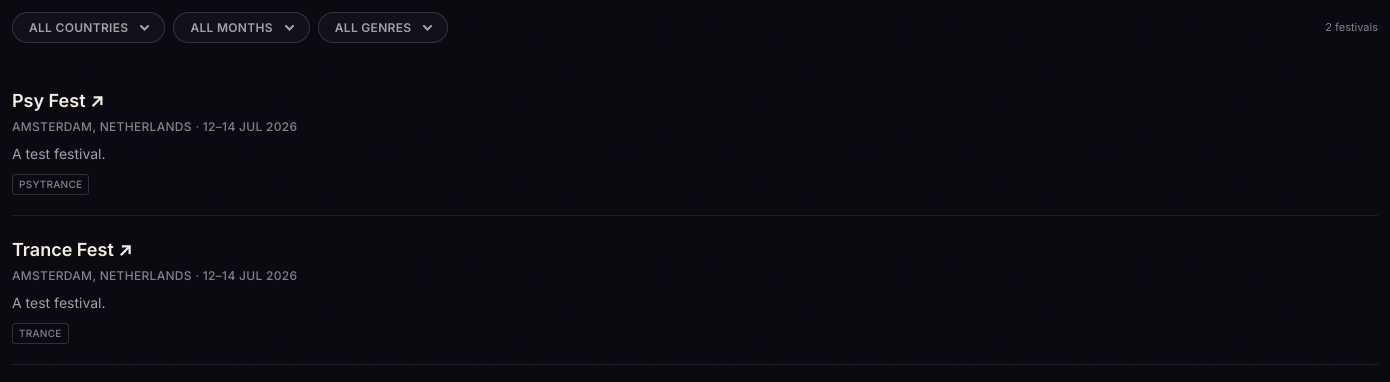
it: FestivalExplorer — genre filter uses the site-wide genre rule (genre system revision, 2026-10-24) › a main genre also matches festivals listing one of its subgenres; a subgenre stays exact
Select "Trance" in the dropdown named "Genre" at (383, 28), box top-left (318, 12), bottom-right (448, 43)
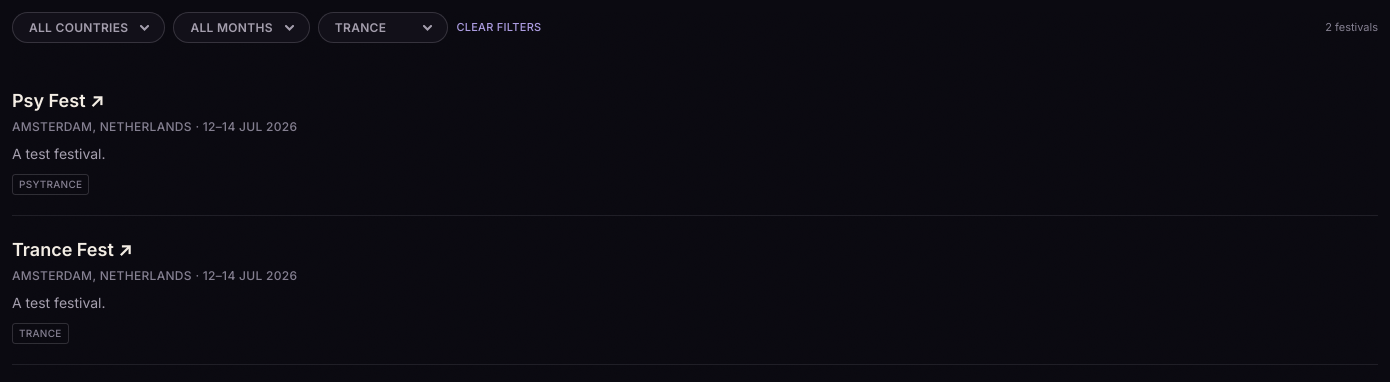
Expected: the link "Psy Fest ↗" is shown, top-left (12, 90), bottom-right (104, 111)
Expected: the link "Trance Fest ↗" is shown, top-left (12, 239), bottom-right (132, 260)
Select "Psytrance" in the dropdown named "Genre" at (383, 28), box top-left (318, 12), bottom-right (448, 43)
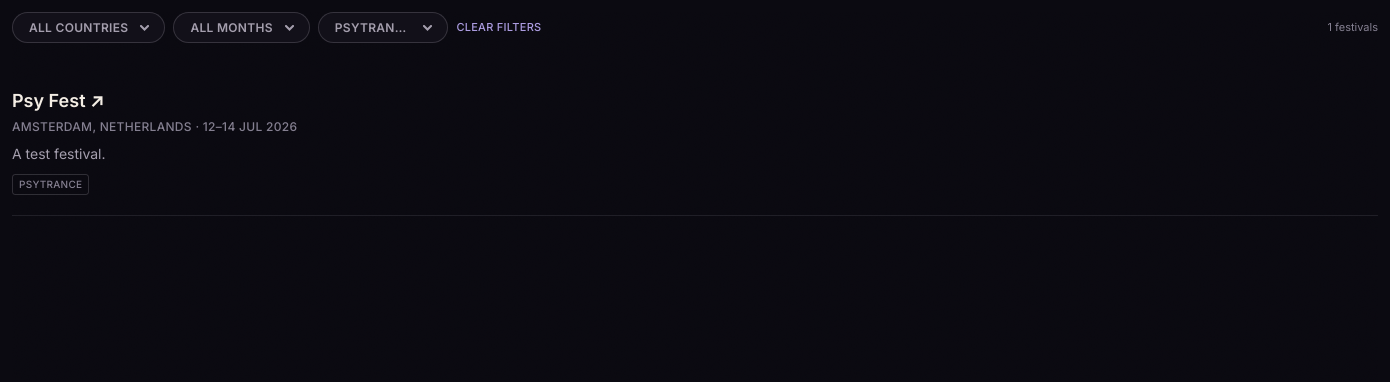
Expected: the link "Psy Fest ↗" is shown, top-left (12, 90), bottom-right (104, 111)
Expected: the link "Trance Fest" is gone
